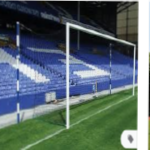goals: (35, 20, 137, 130)
